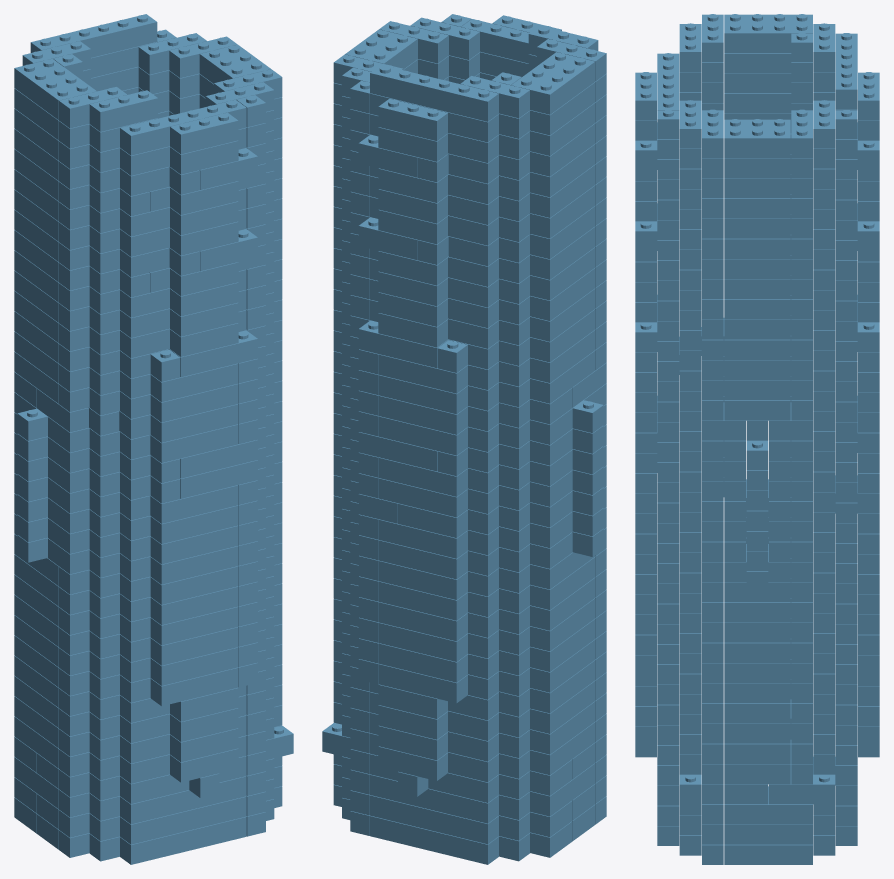
File: 202_pot_L2.glb
3 renders of one model, left to right at view 1: azimuth 30°, elevation 25°; view 2: azimuth 150°, elevation 25°; view 3: azimuth 270°, elevation 25°, orthographic. The views are drawn at different scales.
Bounding box in the file's own units: 12.98 × 37.13 × 10.98.
